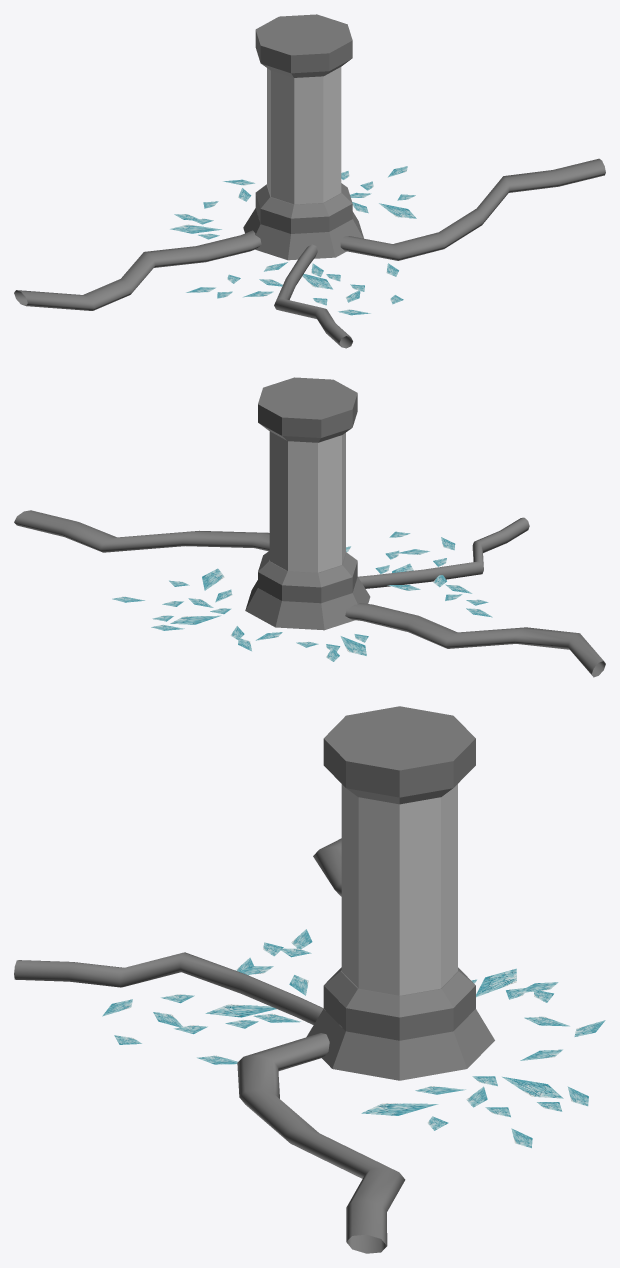
Rendered from stageobj.obj.
The picture shows the model from 3 angles, top to bottom: view 1: azimuth 30°, elevation 25°; view 2: azimuth 150°, elevation 25°; view 3: azimuth 270°, elevation 25°; orthographic projection. The views are drawn at different scales.
Parts seen in each view (by area): view 1: pPlane34; view 2: pPlane34; view 3: pPlane34.
Part boxes in pixels (x1,y1,x2,y2): pPlane34: (14, 14, 605, 348); pPlane34: (14, 377, 605, 677); pPlane34: (14, 706, 605, 1253).
Bounding box in the file's own units: 13.17 × 4.4 × 7.78.
